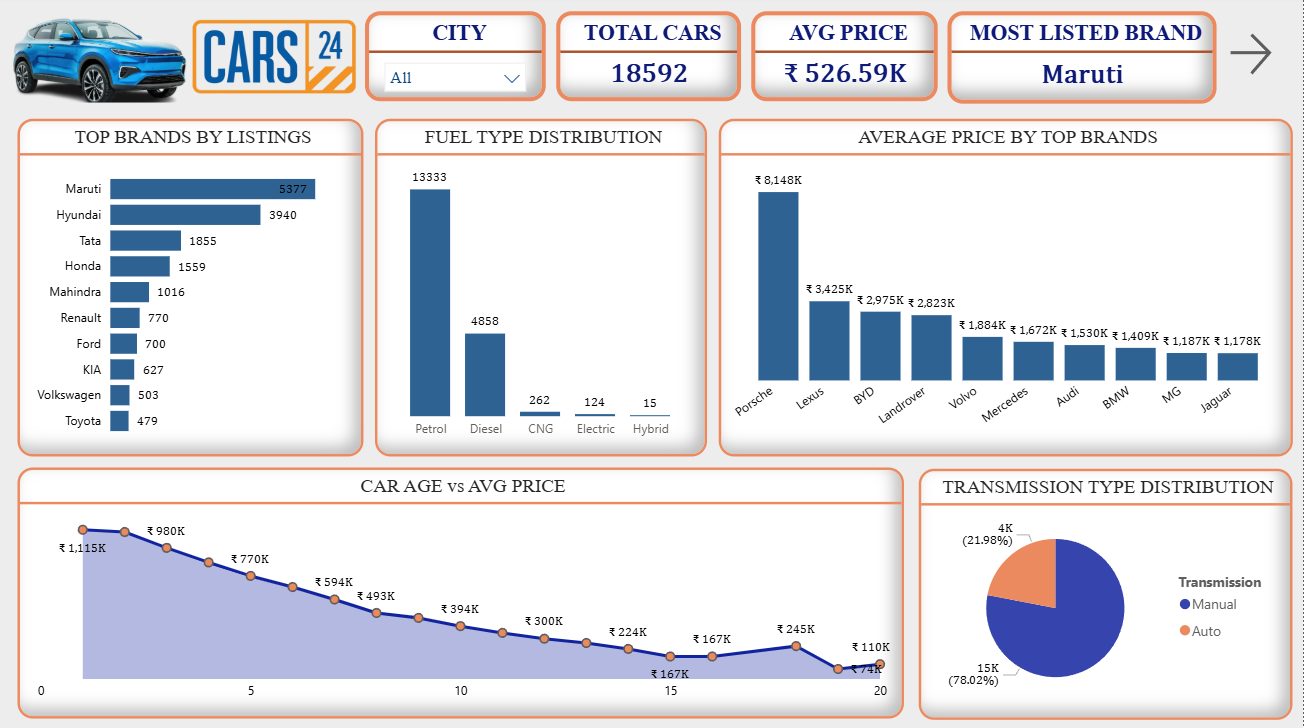

The page's visual inventory and layout, read from the dashboard file:
{"tool":"powerbi","page":{"name":"Page 1","canvas":[1280,720],"ordinal":0},"visuals":[{"type":"image","box":[175.3,18.1,196.2,84.9],"z":0},{"type":"card","title":"TOTAL CARS","fields":{"Values":["CountNonNull(cars24_all_cities (2).car_name)"]},"box":[549.6,15.3,180.9,87.7],"z":1000},{"type":"slicer","title":"CITY","fields":{"Values":["cars24_all_cities (2).city"]},"box":[361.7,15.3,176.7,87.7],"z":2000},{"type":"clusteredBarChart","title":"TOP BRANDS BY LISTINGS","fields":{"Category":["cars24_all_cities (2).brand"],"Y":["CountNonNull(cars24_all_cities (2).car_name)"]},"box":[22.5,121.2,338.8,330],"z":3000},{"type":"columnChart","title":"AVERAGE PRICE BY TOP BRANDS","fields":{"Category":["cars24_all_cities (2).brand"],"Y":["Avg(cars24_all_cities (2).price)"]},"box":[707.5,121.2,561.2,330],"z":4000},{"type":"pieChart","title":"TRANSMISSION TYPE DISTRIBUTION","fields":{"Category":["cars24_all_cities (2).transmission_type"],"Y":["CountNonNull(cars24_all_cities (2).car_name)"]},"box":[903.7,463.5,365.6,245.8],"z":5000},{"type":"clusteredColumnChart","title":"FUEL TYPE DISTRIBUTION","fields":{"Category":["cars24_all_cities (2).fuel_type"],"Y":["CountNonNull(cars24_all_cities.car_name)"]},"box":[371.2,121.2,325,330],"z":6000},{"type":"image","box":[0,22.3,208.7,83.5],"z":7000},{"type":"card","title":"AVG PRICE","fields":{"Values":["Avg(cars24_all_cities (2).price)"]},"box":[740.2,15.3,182.3,87.7],"z":8000},{"type":"card","title":"MOST LISTED BRAND","fields":{"Values":["Min(cars24_all_cities (2).brand)"]},"box":[932.2,15.3,263,90.4],"z":9000},{"type":"lineChart","title":"CAR AGE  vs  AVG PRICE","fields":{"Category":["cars24_all_cities (2).car_age_years"],"Y":["Avg(cars24_all_cities (2).price)"]},"box":[22,462.2,867,245.8],"z":10000},{"type":"actionButton","box":[1202.1,23.7,51.5,69.6],"z":11000}]}

Visuals, with their boxes in screenshot pixels (x1, y1, x2, y2), scaled from the page's 1280x720 canvas onto the 1304x728 screenshot:
image: select_region(179, 18, 378, 104)
"TOTAL CARS" card: select_region(560, 15, 744, 104)
"CITY" slicer: select_region(368, 15, 548, 104)
"TOP BRANDS BY LISTINGS" clusteredBarChart: select_region(23, 123, 368, 456)
"AVERAGE PRICE BY TOP BRANDS" columnChart: select_region(721, 123, 1292, 456)
"TRANSMISSION TYPE DISTRIBUTION" pieChart: select_region(921, 469, 1293, 717)
"FUEL TYPE DISTRIBUTION" clusteredColumnChart: select_region(378, 123, 709, 456)
image: select_region(0, 23, 213, 107)
"AVG PRICE" card: select_region(754, 15, 940, 104)
"MOST LISTED BRAND" card: select_region(950, 15, 1218, 107)
"CAR AGE  vs  AVG PRICE" lineChart: select_region(22, 467, 906, 716)
actionButton: select_region(1225, 24, 1277, 94)
